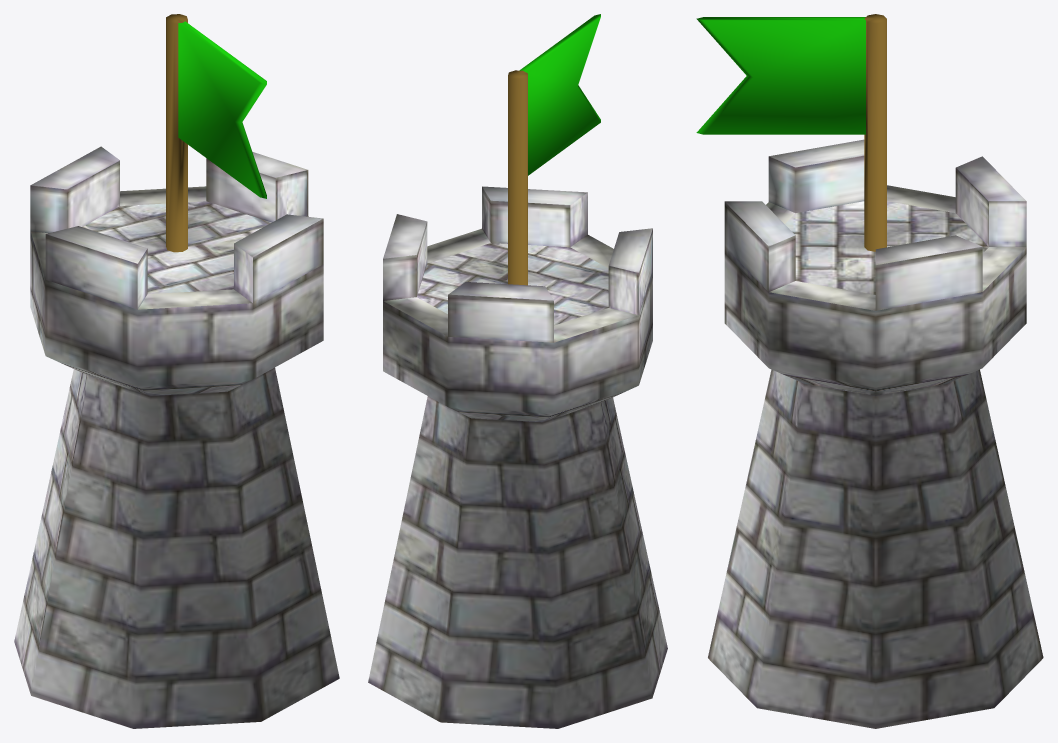
Rendered from Bashnya_Blue.fbx.
3 views of the same model, side by side, from view 1: azimuth 30°, elevation 25°; view 2: azimuth 150°, elevation 25°; view 3: azimuth 270°, elevation 25° (orthographic). The views are drawn at different scales.
Parts seen in each view (by area): view 1: Bashnya; view 2: Bashnya; view 3: Bashnya.
Part boxes in pixels (x1,y1,x2,y2): Bashnya: (14, 14, 339, 728); Bashnya: (368, 14, 667, 728); Bashnya: (696, 14, 1043, 728).
Bounding box in the file's own units: 200 × 420 × 207.
